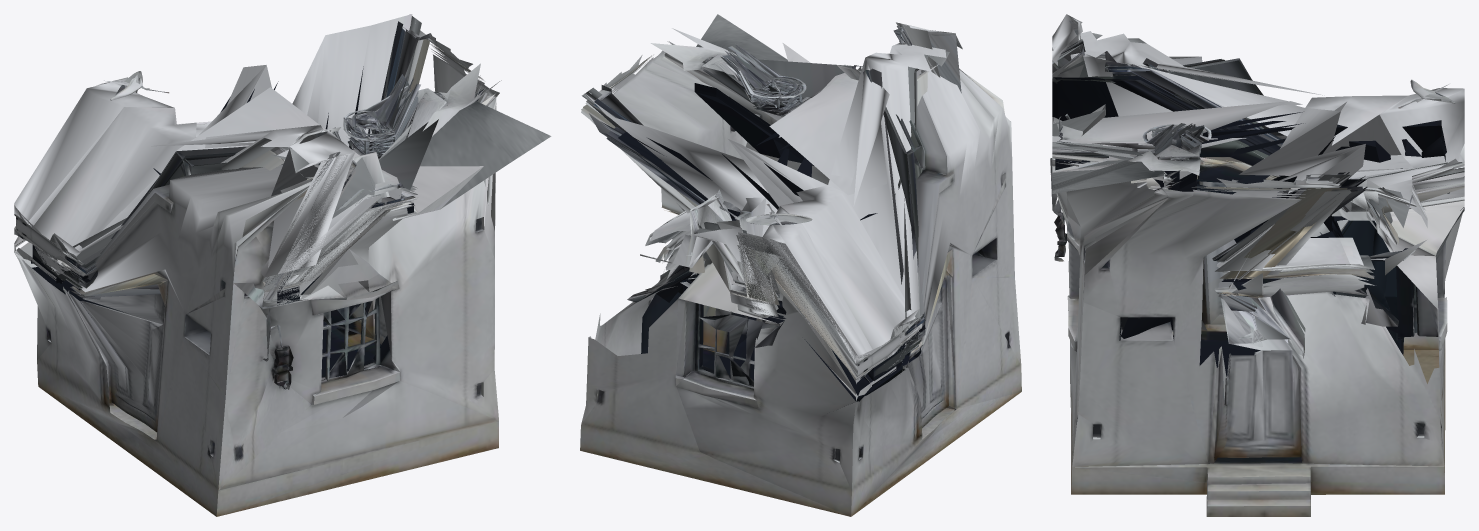
Rendered from relay_wreck.glb.
3 renders of one model, left to right at view 1: azimuth 30°, elevation 25°; view 2: azimuth 150°, elevation 25°; view 3: azimuth 270°, elevation 25°, orthographic. The views are drawn at different scales.
Parts seen in each view (by area): view 1: wall.001, roof.001; view 2: wall.001, roof.001, glass.001; view 3: wall.001, roof.001, glass.001.
Part boxes in pixels (box(x1,y1,x2,y2)): wall.001: box(14, 16, 551, 516); roof.001: box(14, 14, 501, 277); wall.001: box(580, 14, 1021, 516); roof.001: box(585, 25, 954, 363); glass.001: box(607, 126, 908, 403); wall.001: box(1050, 15, 1464, 516); roof.001: box(1052, 14, 1464, 271); glass.001: box(1055, 59, 1462, 355).
Size of the model in its own units: 4.63 by 4.64 by 4.65.
Materials: 1 (1 with a texture image).
